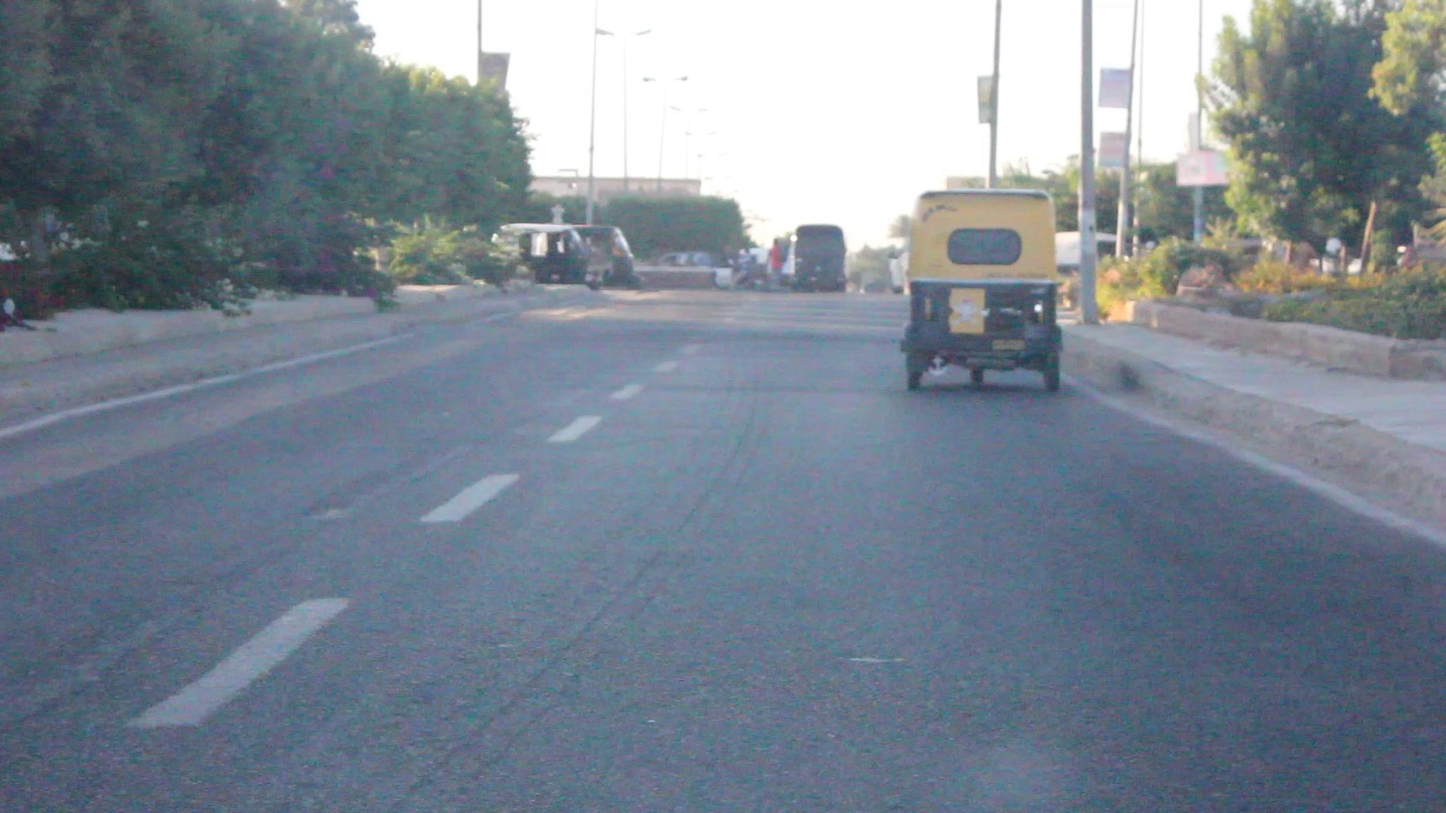Bump: (396, 314, 908, 343)
